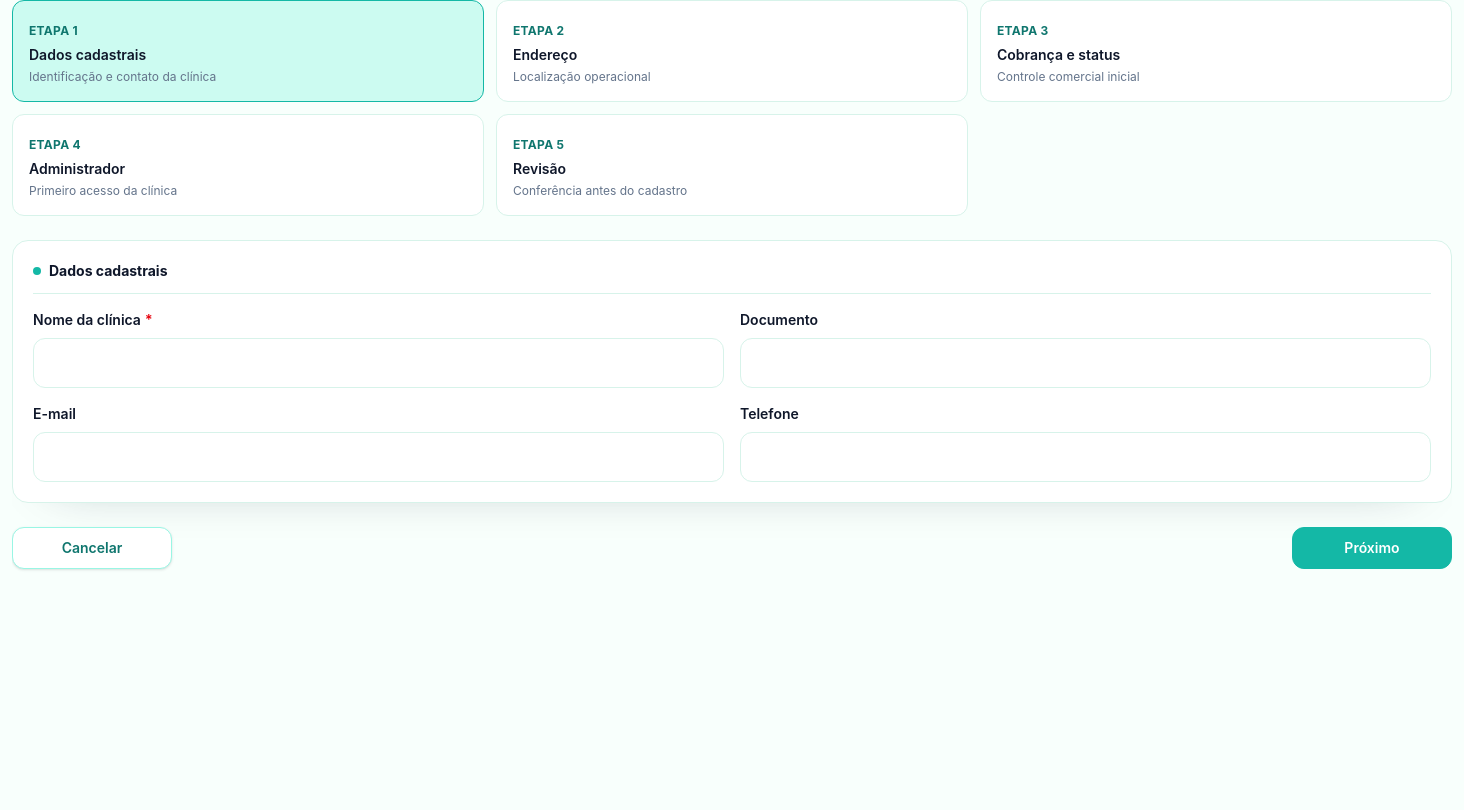
Test: ClinicCreateWizard › validates required clinic data before moving to the next step
The width and height of the screenshot is (1464, 810).
Click the button "Próximo". click: (1372, 548)
box: [1292,527,1452,569]
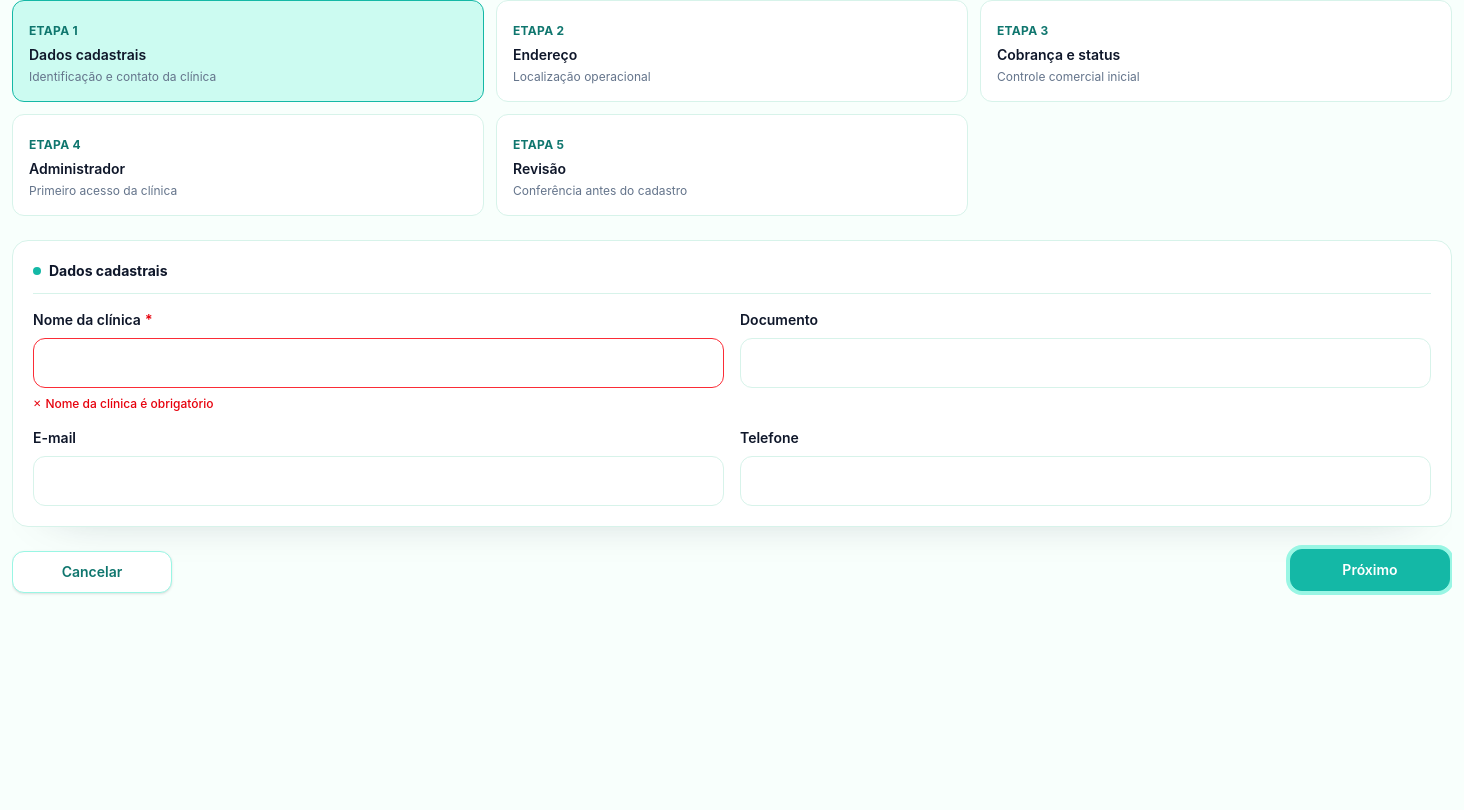
Expected: the field labelled "Nome da clínica*" is shown, [33,338,724,388]
Expected: the text "Nome da clínica é obrigatório" is shown, [45,396,214,411]
